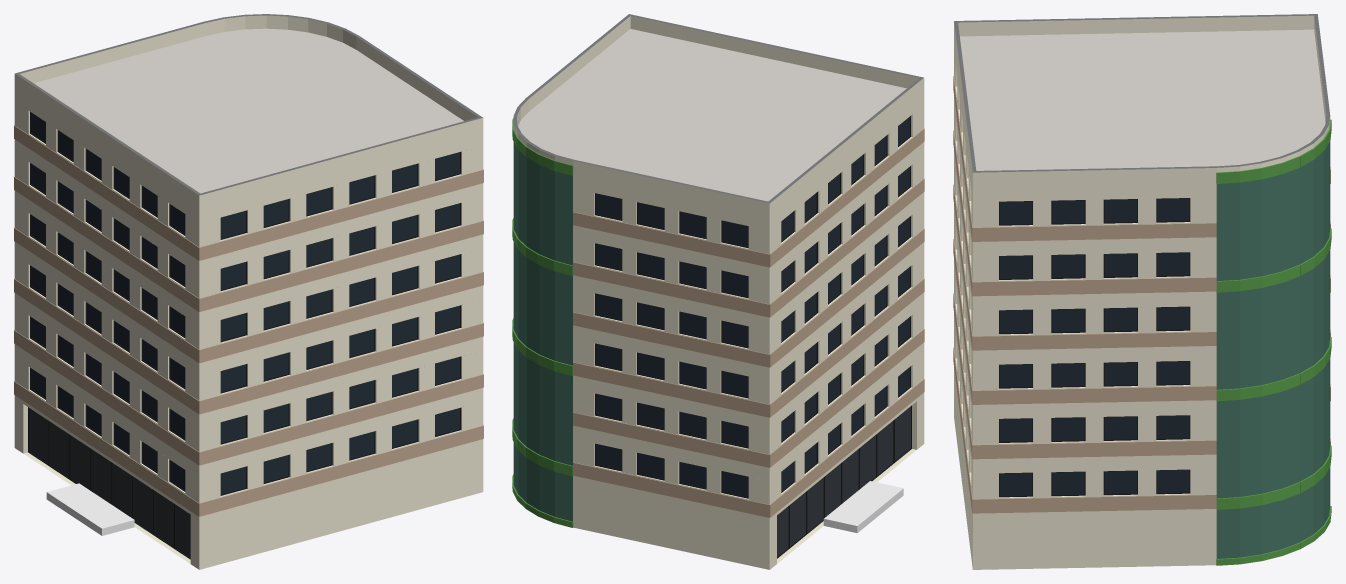
Rendered from esmod528.glb.
3 renders of one model, left to right at view 1: azimuth 30°, elevation 25°; view 2: azimuth 150°, elevation 25°; view 3: azimuth 270°, elevation 25°, orthographic. The views are drawn at different scales.
Visible parts, largest first — view 1: esmod528; view 2: esmod528; view 3: esmod528.
Part boxes in pixels (box(x1,y1,x2,y2)): esmod528: box(14, 14, 483, 569); esmod528: box(512, 14, 924, 569); esmod528: box(953, 14, 1331, 569).
Bounding box in the file's own units: 24.02 × 25.6 × 22.08.
